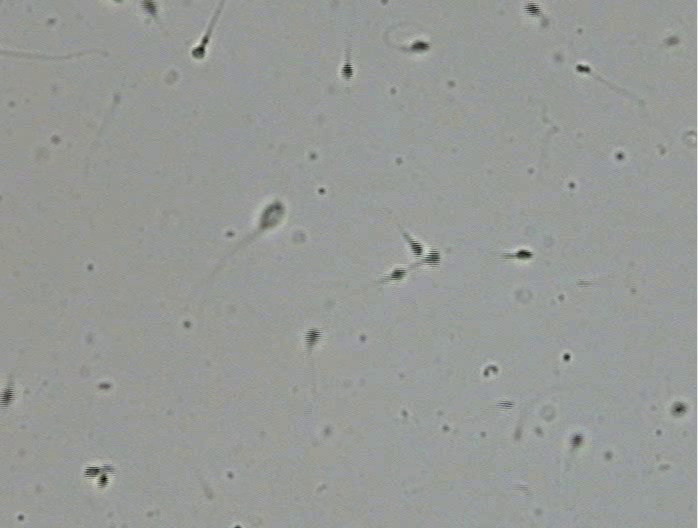S: (261, 201, 285, 228), (1, 387, 15, 408), (304, 328, 321, 345), (424, 249, 440, 267), (409, 238, 423, 258), (524, 2, 542, 16), (142, 1, 157, 15), (341, 63, 353, 80), (515, 249, 533, 260), (569, 434, 583, 448), (84, 466, 100, 478), (390, 268, 406, 280), (411, 41, 428, 52), (96, 474, 109, 488), (192, 45, 205, 58), (673, 402, 686, 415), (576, 64, 591, 74)
